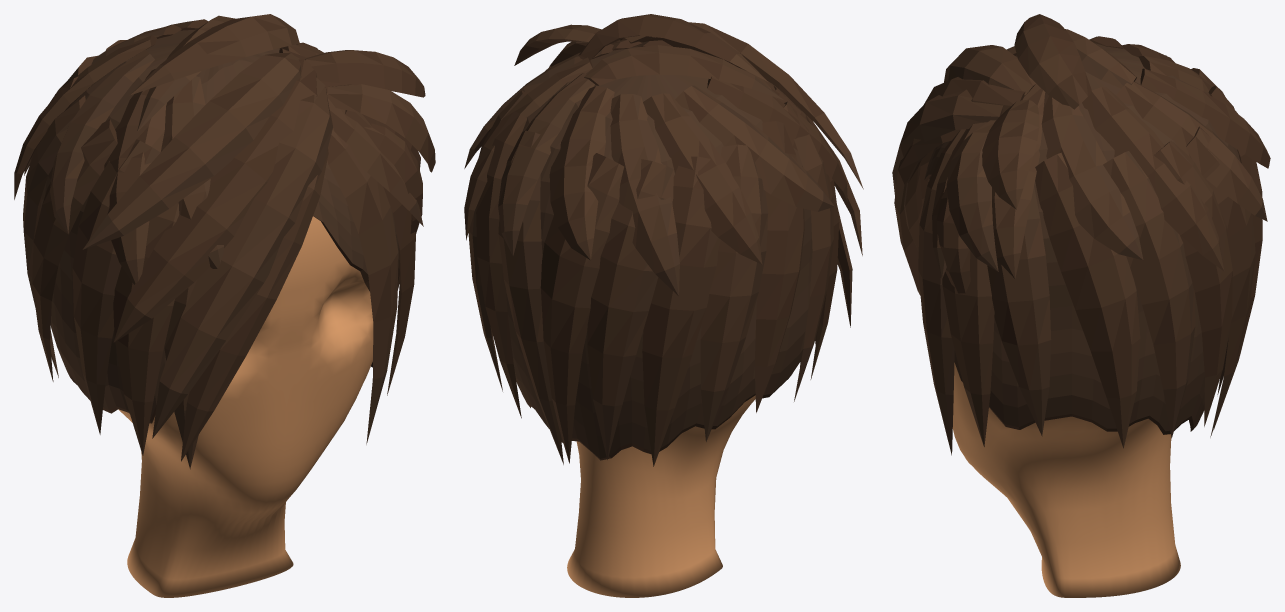
Rendered from base-04-corte-01.glb.
3 renders of one model, left to right at view 1: azimuth 30°, elevation 25°; view 2: azimuth 150°, elevation 25°; view 3: azimuth 270°, elevation 25°, orthographic. The views are drawn at different scales.
Parts seen in each view (by area): view 1: RCL_Corte_Feminino_01, RCL_Base_Feminina_04; view 2: RCL_Corte_Feminino_01, RCL_Base_Feminina_04; view 3: RCL_Corte_Feminino_01, RCL_Base_Feminina_04.
Boxes of the visible parts, bbox=[...] form: RCL_Corte_Feminino_01: bbox=[14, 14, 435, 469]; RCL_Base_Feminina_04: bbox=[118, 216, 373, 597]; RCL_Corte_Feminino_01: bbox=[464, 14, 863, 466]; RCL_Base_Feminina_04: bbox=[567, 395, 755, 597]; RCL_Corte_Feminino_01: bbox=[892, 14, 1270, 455]; RCL_Base_Feminina_04: bbox=[952, 362, 1180, 597].
Bounding box in the file's own units: 0.222 × 0.3331 × 0.2118.
